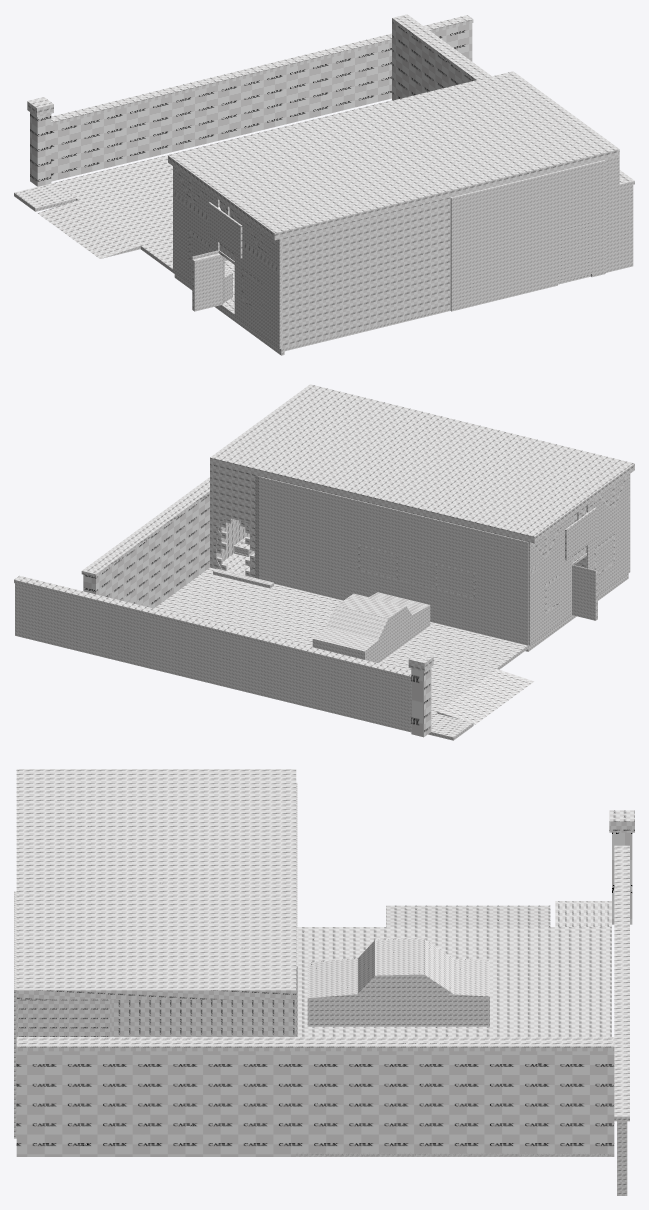
File: simpson-moes.obj
3 views of the same model, one above another, from view 1: azimuth 30°, elevation 25°; view 2: azimuth 150°, elevation 25°; view 3: azimuth 270°, elevation 25° (orthographic). The views are drawn at different scales.
Parts seen in each view (by area): view 1: entity0_brush202, entity0_brush204, entity0_brush334, entity0_brush463, entity0_brush203, entity0_brush435, entity0_brush476, entity0_brush205, entity0_brush477, entity0_brush436, entity0_brush465, entity0_brush434 (+11 smaller); view 2: entity0_brush202, entity0_brush478, entity0_brush204, entity0_brush203, entity0_brush435, entity0_brush477, entity0_brush205, entity0_brush476, entity0_brush474, entity0_brush475, entity0_brush436, entity0_brush224 (+6 smaller); view 3: entity0_brush202, entity0_brush435, entity0_brush203, entity0_brush474, entity0_brush434, entity0_brush259, entity0_brush475, entity0_brush205, entity0_brush258, entity0_brush436, entity0_brush437, entity0_brush204 (+2 smaller).
Part boxes in pixels (x1=…): entity0_brush202: x1=168, y1=71, x2=619, y2=240; entity0_brush204: x1=51, y1=23, x2=472, y2=181; entity0_brush334: x1=281, y1=197, x2=450, y2=348; entity0_brush463: x1=450, y1=171, x2=557, y2=311; entity0_brush203: x1=55, y1=100, x2=392, y2=273; entity0_brush435: x1=392, y1=21, x2=633, y2=269; entity0_brush476: x1=234, y1=211, x2=281, y2=348; entity0_brush205: x1=51, y1=15, x2=473, y2=125; entity0_brush477: x1=173, y1=166, x2=219, y2=284; entity0_brush436: x1=38, y1=200, x2=140, y2=258; entity0_brush465: x1=557, y1=163, x2=591, y2=228; entity0_brush434: x1=392, y1=14, x2=634, y2=187; entity0_brush202: x1=210, y1=384, x2=634, y2=543; entity0_brush478: x1=255, y1=475, x2=528, y2=645; entity0_brush204: x1=15, y1=583, x2=411, y2=732; entity0_brush203: x1=154, y1=567, x2=528, y2=715; entity0_brush435: x1=83, y1=494, x2=209, y2=608; entity0_brush477: x1=528, y1=516, x2=572, y2=645; entity0_brush205: x1=14, y1=575, x2=411, y2=679; entity0_brush476: x1=586, y1=474, x2=630, y2=595; entity0_brush474: x1=312, y1=592, x2=430, y2=663; entity0_brush475: x1=325, y1=593, x2=411, y2=640; entity0_brush436: x1=437, y1=669, x2=533, y2=724; entity0_brush224: x1=210, y1=464, x2=254, y2=523; entity0_brush202: x1=16, y1=769, x2=296, y2=999; entity0_brush435: x1=16, y1=1051, x2=614, y2=1156; entity0_brush203: x1=296, y1=927, x2=611, y2=1156; entity0_brush474: x1=307, y1=958, x2=489, y2=1026; entity0_brush434: x1=16, y1=1037, x2=614, y2=1051; entity0_brush259: x1=111, y1=999, x2=296, y2=1036; entity0_brush475: x1=358, y1=938, x2=453, y2=993; entity0_brush205: x1=614, y1=845, x2=629, y2=1121; entity0_brush258: x1=16, y1=999, x2=111, y2=1036; entity0_brush436: x1=386, y1=905, x2=550, y2=926; entity0_brush437: x1=555, y1=901, x2=611, y2=926; entity0_brush204: x1=617, y1=1121, x2=627, y2=1195.
Size of the model in its own units: 1088 by 288 by 968.
